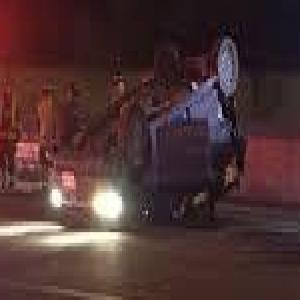critical: (41, 27, 251, 234)
